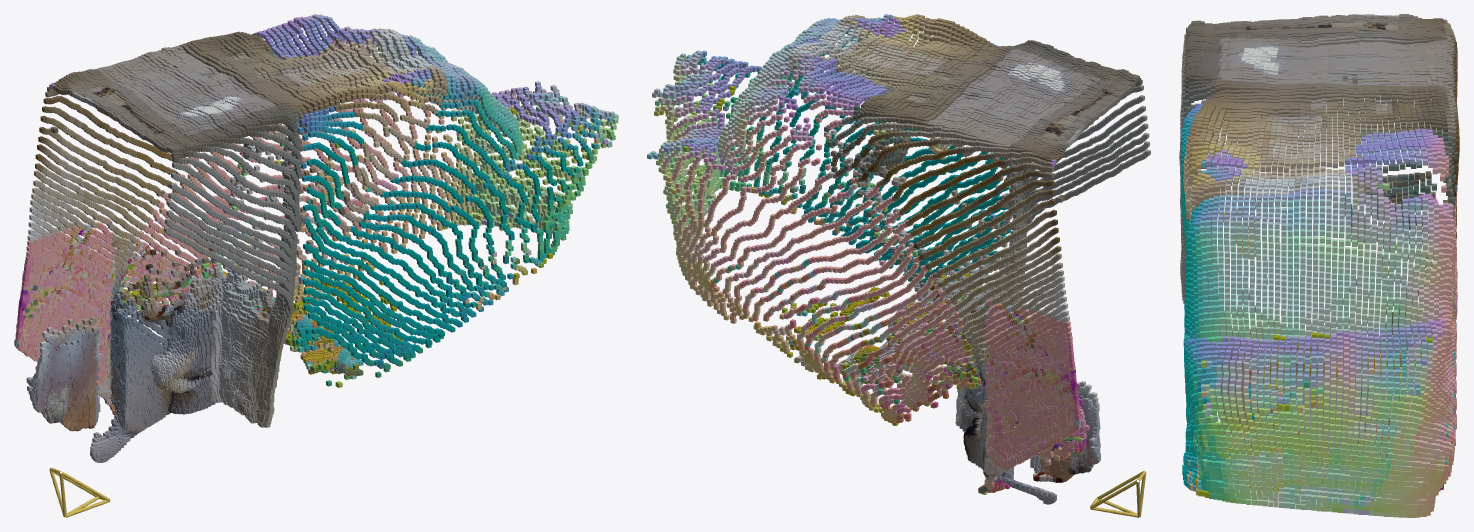
Rendered from pred_2-compressed.glb.
3 views of the same model, side by side, from view 1: azimuth 30°, elevation 25°; view 2: azimuth 150°, elevation 25°; view 3: azimuth 270°, elevation 25° (orthographic). The views are drawn at different scales.
Bounding box in the file's own units: 6.84 × 5.13 × 2.66.
